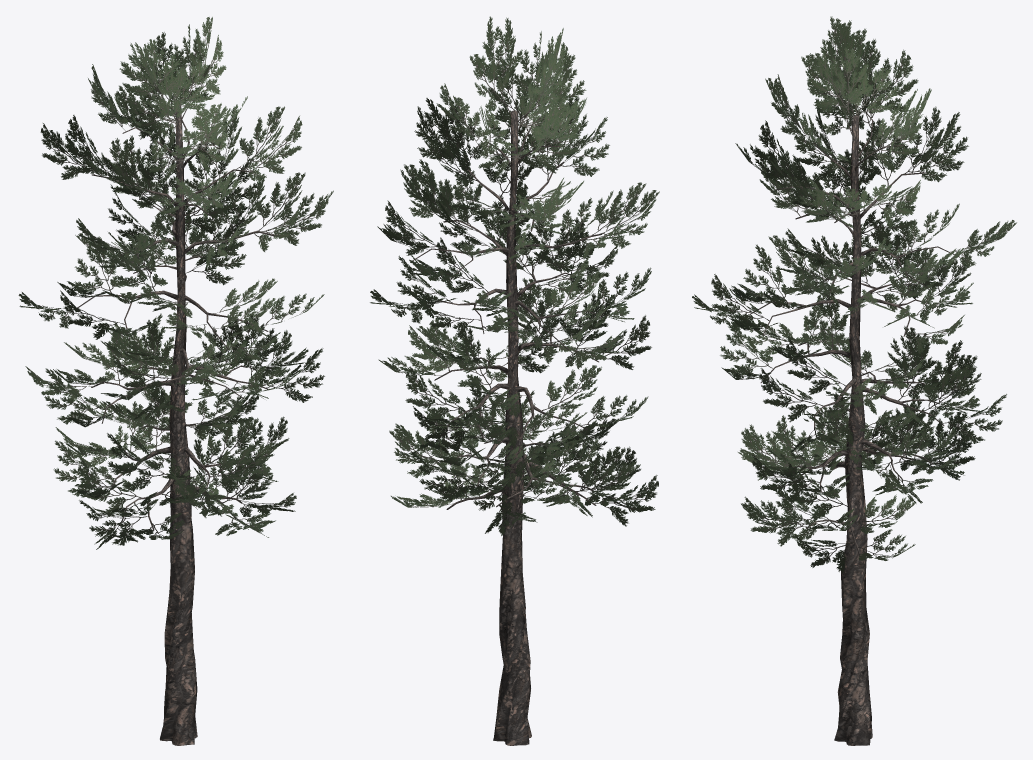
The picture shows the model from 3 angles, left to right: view 1: azimuth 30°, elevation 25°; view 2: azimuth 150°, elevation 25°; view 3: azimuth 270°, elevation 25°; orthographic projection.
Visible parts, largest first — view 1: Tree_1, Tree_0; view 2: Tree_1, Tree_0; view 3: Tree_1, Tree_0.
Boxes of the visible parts, left/top/right/bottom form: Tree_1: left=18, top=17, right=333, bottom=549; Tree_0: left=76, top=84, right=275, bottom=745; Tree_1: left=370, top=16, right=659, bottom=535; Tree_0: left=412, top=92, right=602, bottom=745; Tree_1: left=692, top=16, right=1016, bottom=573; Tree_0: left=749, top=95, right=960, bottom=745.
Size of the model in its own units: 2.14 by 5.46 by 2.3.
2 materials, 2 textured.
